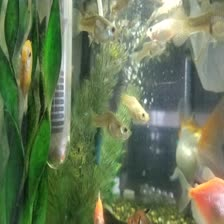Cuezo: (169, 90, 223, 185)
Guppy: (139, 12, 199, 42), (85, 107, 131, 143), (111, 87, 151, 125), (67, 15, 121, 41)
Plano: (14, 35, 35, 109)
